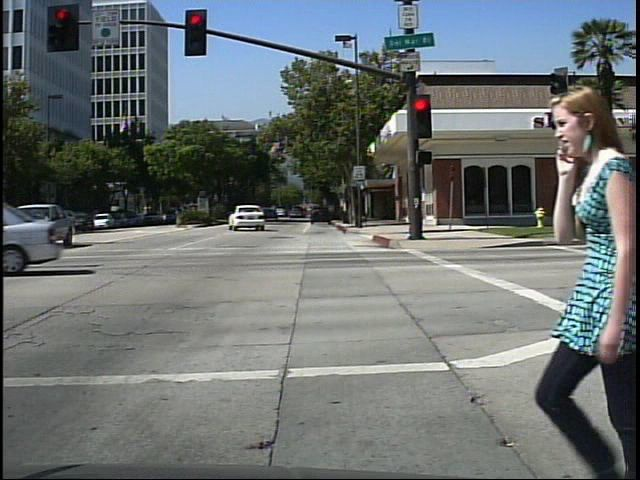person: (545, 67, 637, 480)
